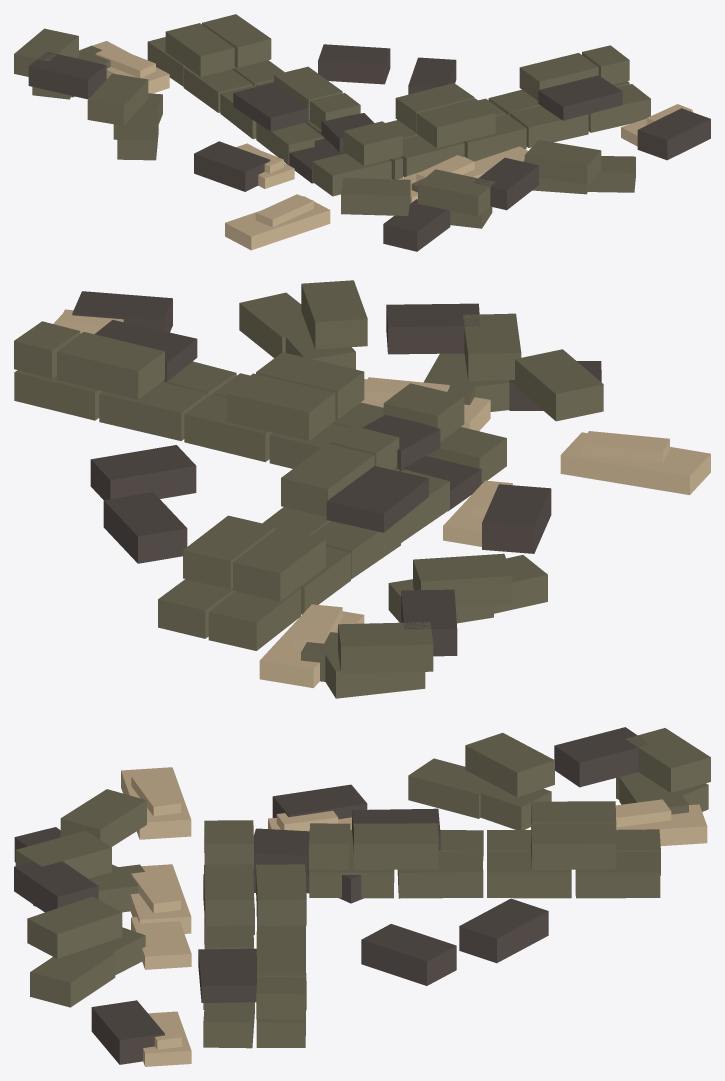
The model's file is SM_SacosEsquina_v0_Recto_e2_MuyDanado_LOD0.fbx.
3 views of the same model, one above another, from view 1: azimuth 30°, elevation 25°; view 2: azimuth 150°, elevation 25°; view 3: azimuth 270°, elevation 25° (orthographic). The views are drawn at different scales.
Visible parts, largest first — view 1: SM_sacos_piezas_v2_LOD0; view 2: SM_sacos_piezas_v2_LOD0; view 3: SM_sacos_piezas_v2_LOD0.
Boxes of the visible parts, <box> form: SM_sacos_piezas_v2_LOD0: <box>14,14,710,251</box>; SM_sacos_piezas_v2_LOD0: <box>14,280,710,698</box>; SM_sacos_piezas_v2_LOD0: <box>14,727,710,1066</box>.
Bounding box in the file's own units: 6.59 × 0.585 × 6.68.
